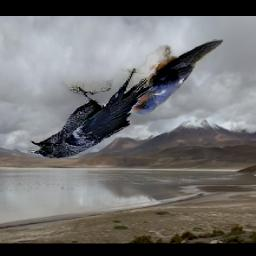Crow: (28, 69, 155, 159)
Swallow: (129, 39, 224, 116)
